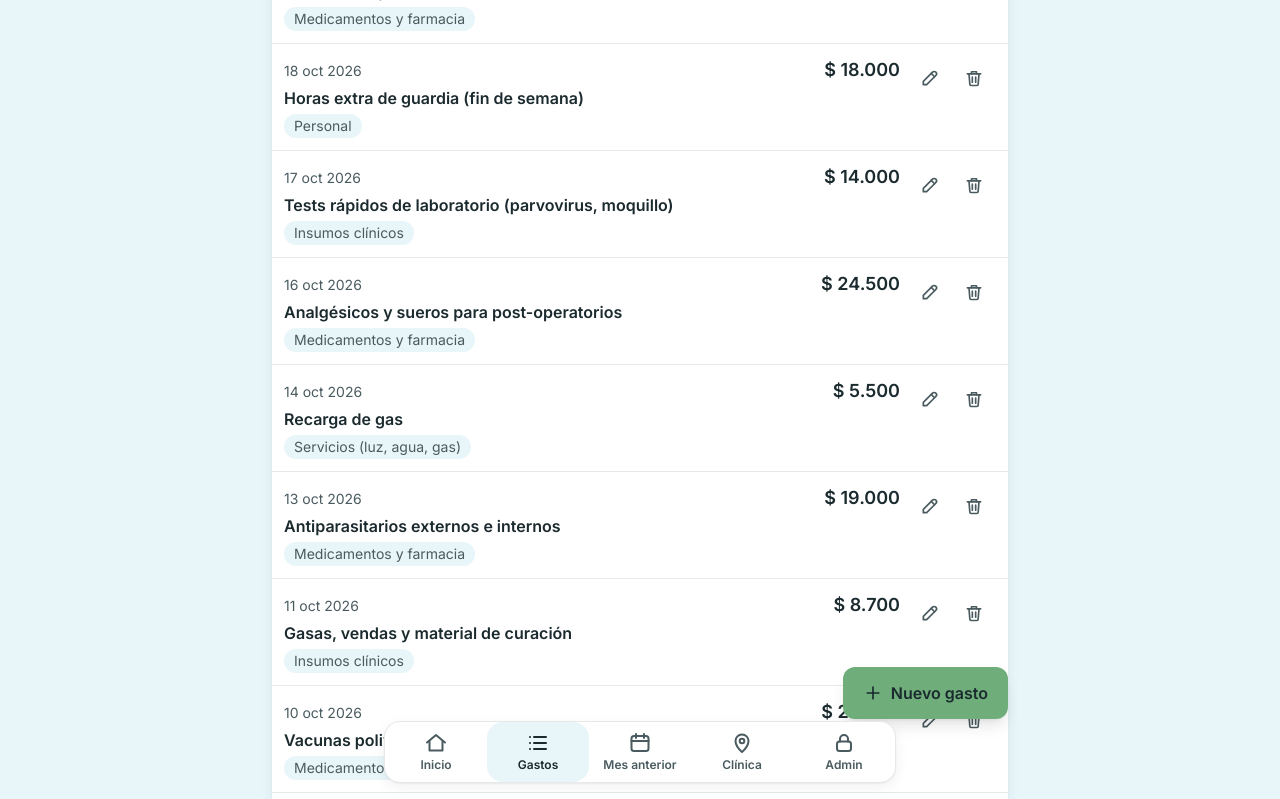
Scenario: Editing and deleting › asks for confirmation before deleting and keeps the expense on cancel
This screenshot has width=1280, height=799.
(page scrolled)
Step 1. Click the button named "Eliminar gasto: Recarga de gas" → (974, 399), box [952,377,996,421]
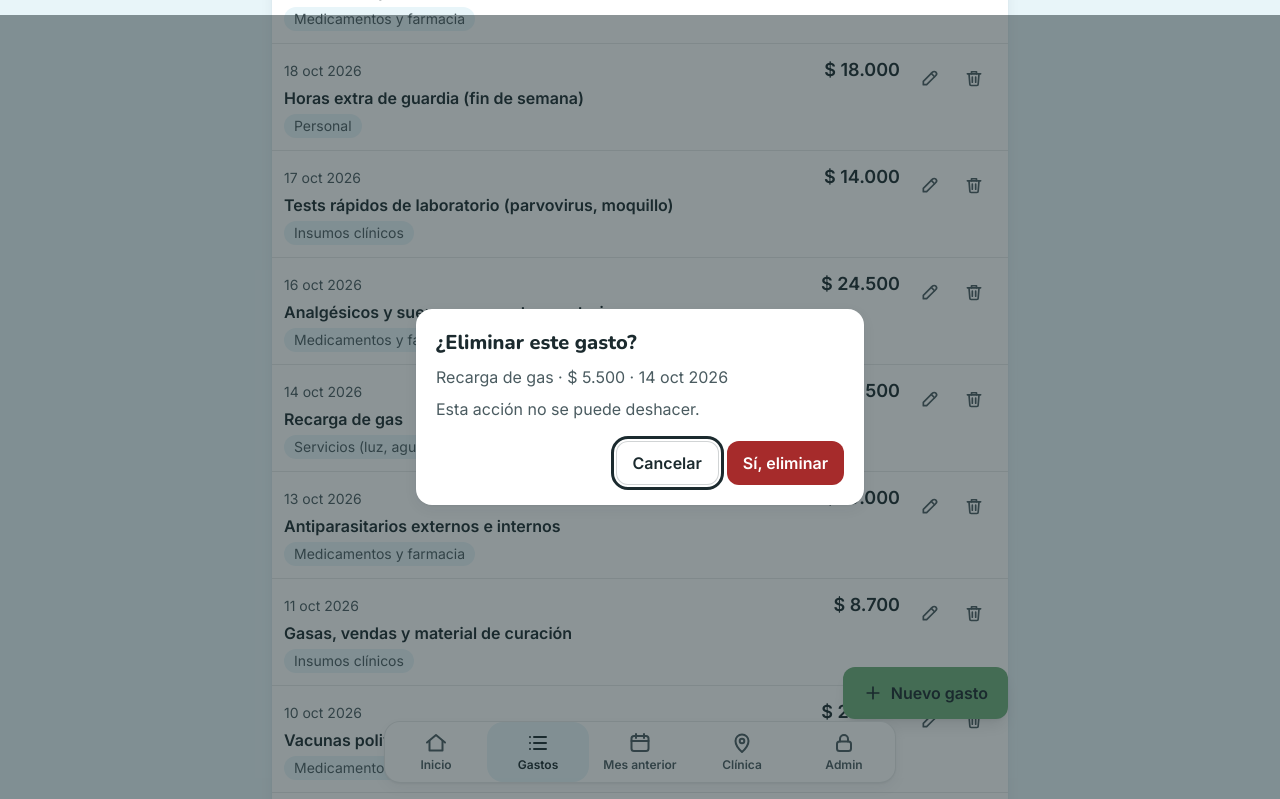
Expected: the text "Recarga de gas · $ 5.500 · 14 oct 2026" is shown, [436,367,728,387]
Step 2. Click the button "Cancelar" → (667, 463), box [616,441,719,485]
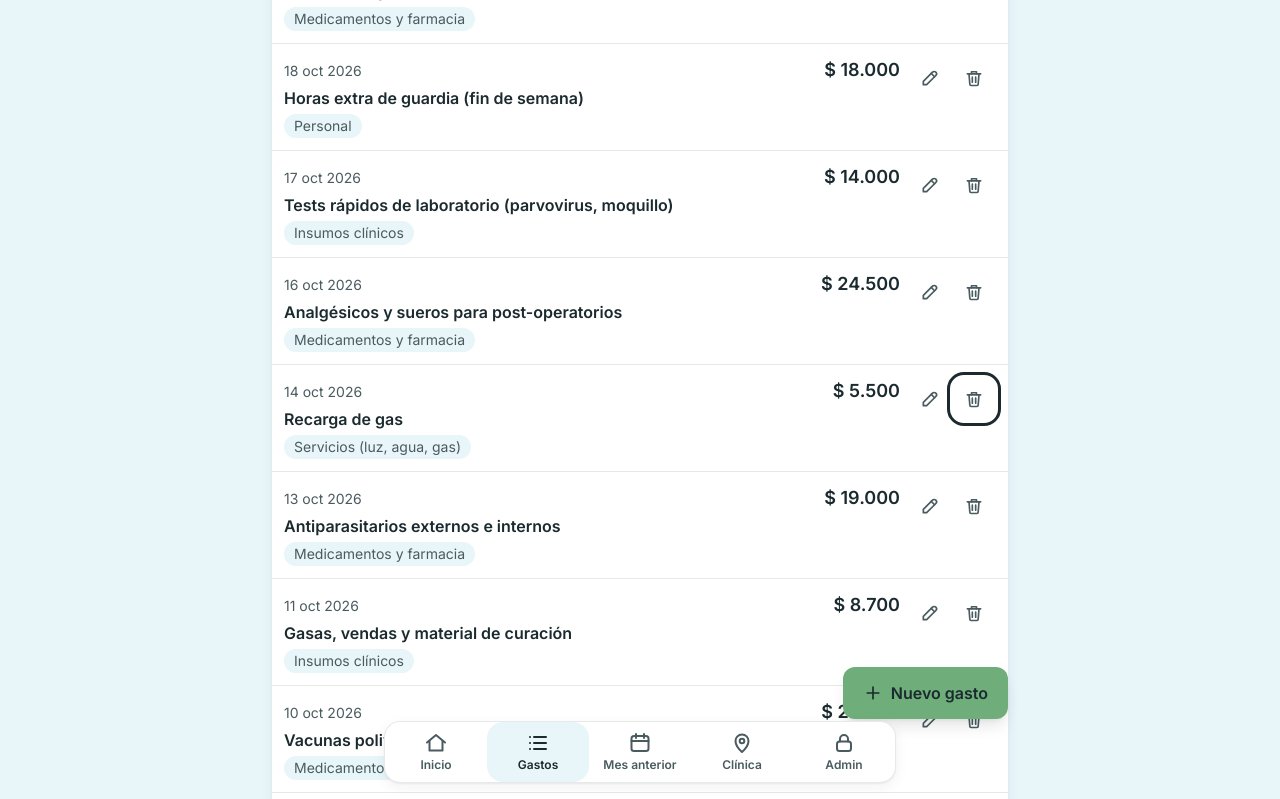
Expected: the dialog is gone
